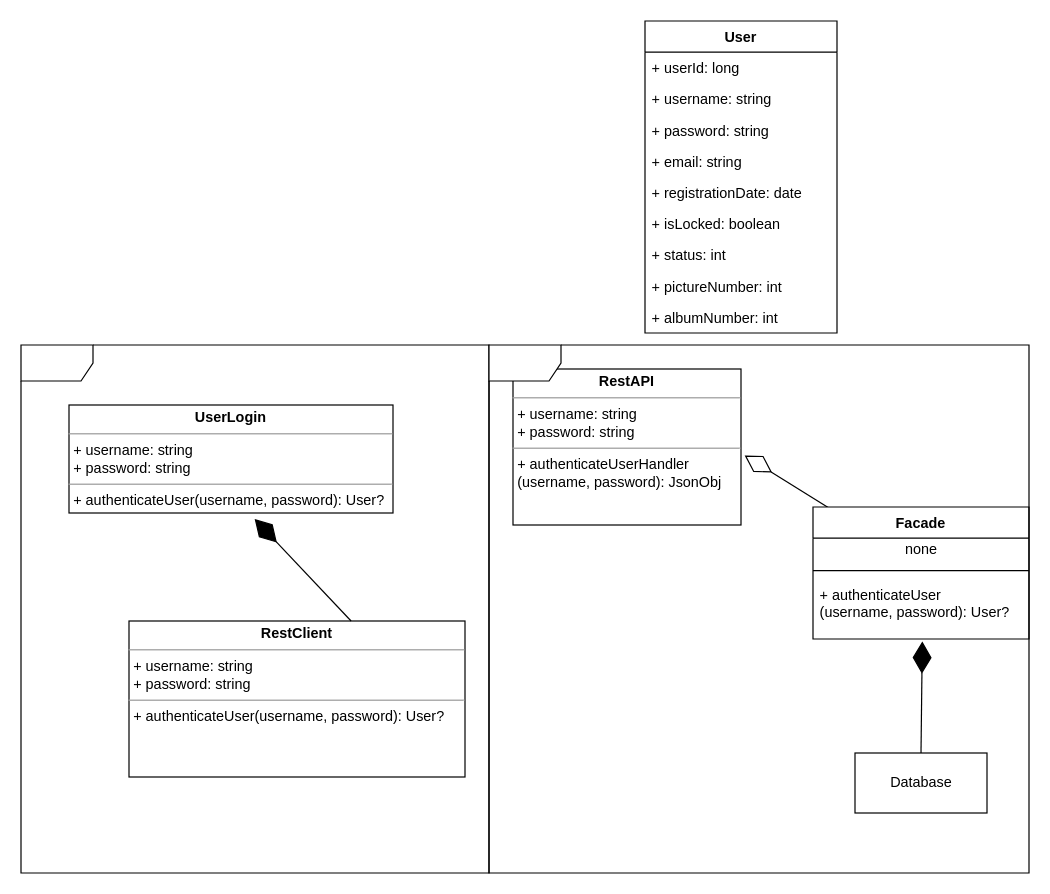
Image size: 1050x894. Some labels were removed from this diagram. The box of each missing label's shape, as (x1, y1, x2, y2) in pixels:
backend: (488, 344, 1029, 873)
Frontend: (20, 344, 489, 873)
